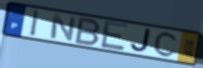B: (73, 16, 103, 47)
C: (153, 31, 180, 58)
E: (99, 19, 129, 52)
I: (29, 9, 41, 38)
J: (129, 28, 152, 54)
N: (49, 13, 77, 43)
